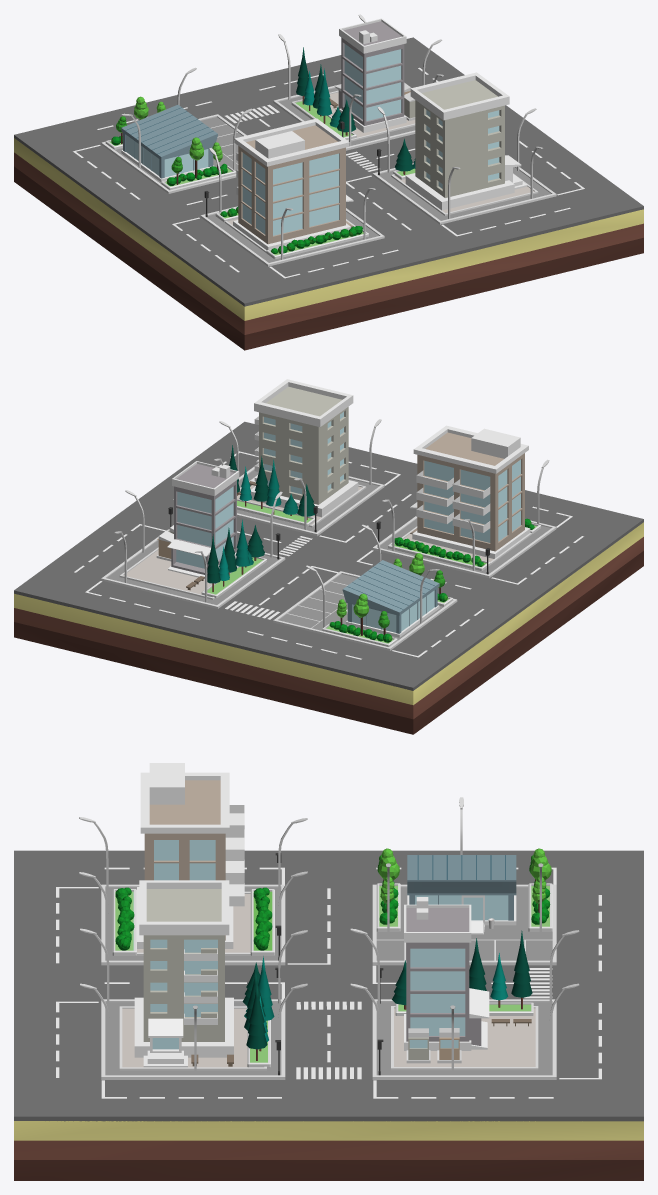
The model's file is City_1.fbx.
3 views of the same model, one above another, from view 1: azimuth 30°, elevation 25°; view 2: azimuth 150°, elevation 25°; view 3: azimuth 270°, elevation 25° (orthographic). The views are drawn at different scales.
Parts seen in each view (by area): view 1: Road, Floor, House_2, House_6, House_1, Shop, Floor_3, Floor_1, Floor_5, Floor_2 (×2), Bushes (×2), Floor_4 (+2 smaller); view 2: Road, Floor, House_2, House_6, House_1, Shop, Floor_5, Floor_4, Floor_1, Floor_2, Floor_3, Cube (×2) (+2 smaller); view 3: Road, Floor, House_6, House_2, House_1, Floor_2 (×3), Shop, Floor_5, Floor_4, Floor_3, Floor_1, Bushes (×2) (+6 smaller).
Boxes of the visible parts, x1,y1,x2,y2 form: Road: [14, 37, 643, 306]; Floor: [14, 138, 643, 350]; House_2: [233, 118, 353, 249]; House_6: [405, 72, 527, 210]; House_1: [334, 18, 406, 132]; Shop: [121, 105, 217, 181]; Floor_3: [372, 163, 556, 224]; Floor_1: [200, 206, 384, 266]; Floor_5: [101, 114, 246, 193]; Floor_2 (×2): [329, 90, 538, 215]; Bushes (×2): [111, 136, 362, 253]; Floor_4: [273, 84, 415, 150]; Road: [14, 421, 643, 690]; Floor: [14, 522, 643, 734]; House_2: [410, 425, 530, 558]; House_6: [250, 379, 358, 517]; House_1: [167, 461, 239, 578]; Shop: [342, 560, 439, 637]; Floor_5: [273, 571, 457, 650]; Floor_4: [101, 529, 285, 608]; Floor_1: [372, 516, 556, 578]; Floor_2: [119, 547, 236, 599]; Floor_3: [237, 466, 384, 536]; Cube (×2): [201, 499, 314, 598]; Road: [14, 850, 643, 1121]; Floor: [14, 1121, 643, 1180]; House_6: [134, 880, 233, 1067]; House_2: [137, 763, 244, 948]; House_1: [404, 897, 489, 1050]; Floor_2 (×3): [119, 891, 538, 1070]; Shop: [407, 855, 516, 934]; Floor_5: [372, 884, 556, 965]; Floor_4: [372, 999, 556, 1079]; Floor_3: [101, 999, 285, 1079]; Floor_1: [101, 884, 285, 965]; Bushes (×2): [115, 881, 550, 950].
Size of the model in its own units: 21.62 by 7.6 by 21.62.
